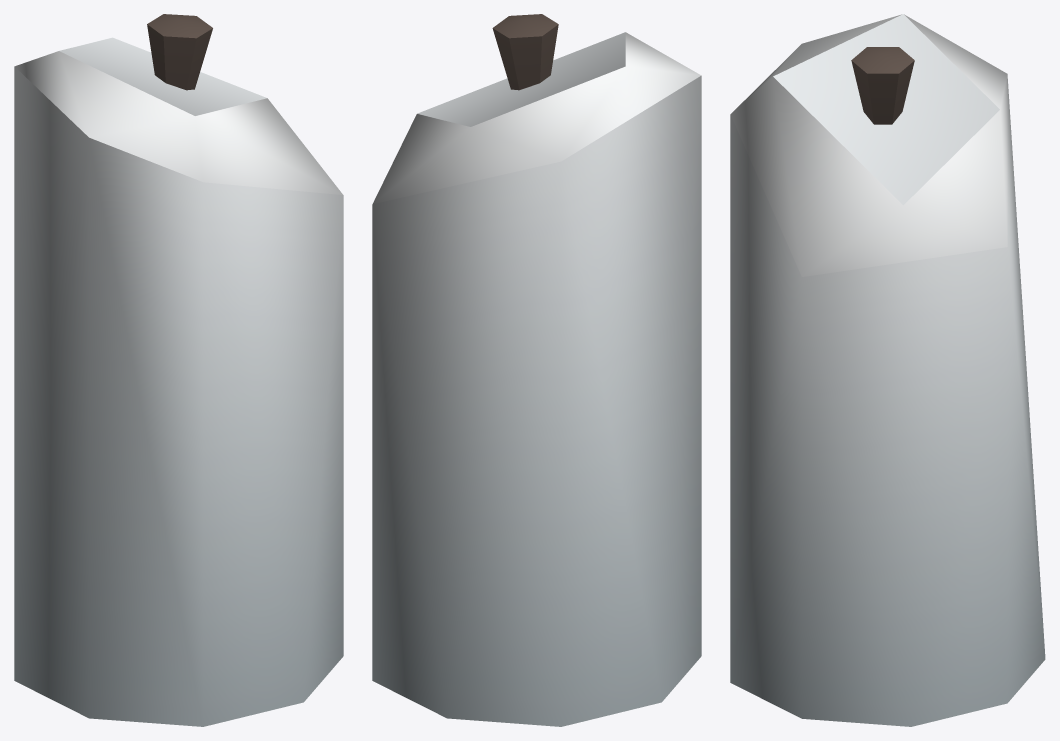
The model's file is cc0-candle-melted-lod1.glb.
The picture shows the model from 3 angles, left to right: view 1: azimuth 30°, elevation 25°; view 2: azimuth 150°, elevation 25°; view 3: azimuth 270°, elevation 25°; orthographic projection. The views are drawn at different scales.
Visible parts, largest first — view 1: part_0; view 2: part_0; view 3: part_0.
Part boxes in pixels (box(x1,y1,x2,y2)): part_0: box(14, 14, 343, 726); part_0: box(372, 14, 701, 726); part_0: box(730, 14, 1045, 726).
Size of the model in its own units: 0.3009 by 0.6314 by 0.2964.
Materials: 1 (1 with a texture image).
